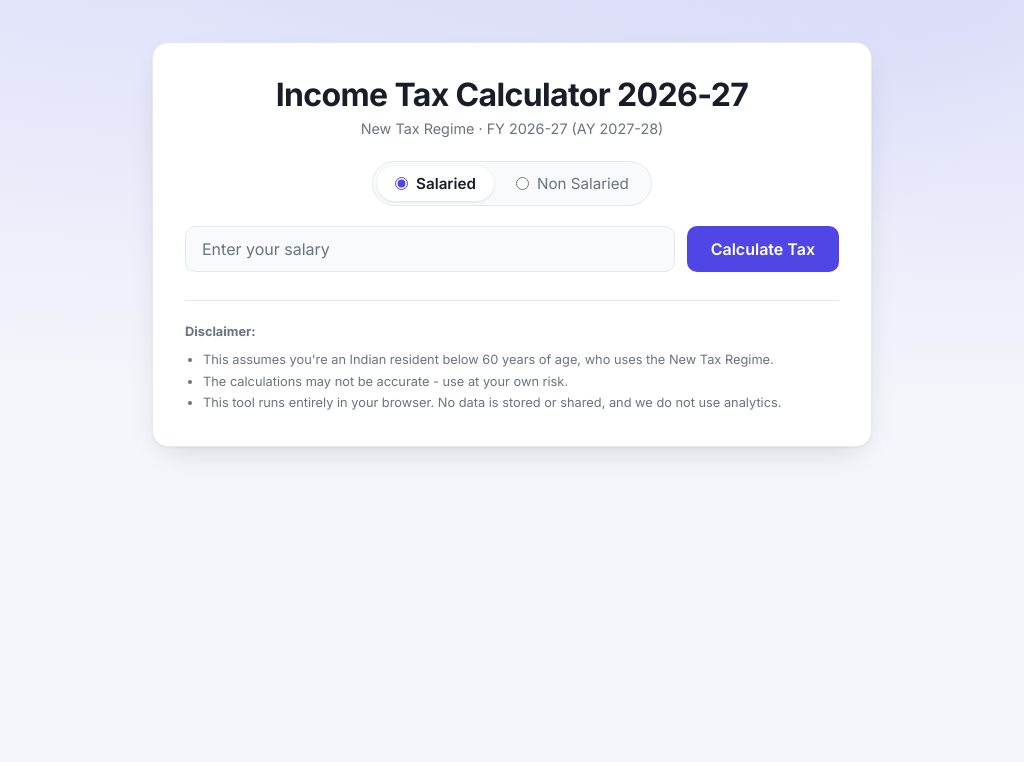
Scenario: TaxCalculator › shows marginal relief for income above threshold
Type "2500000" into the field with placeholder "Enter your salary".
click(430, 249); type("2500000")  # box [185, 226, 675, 272]
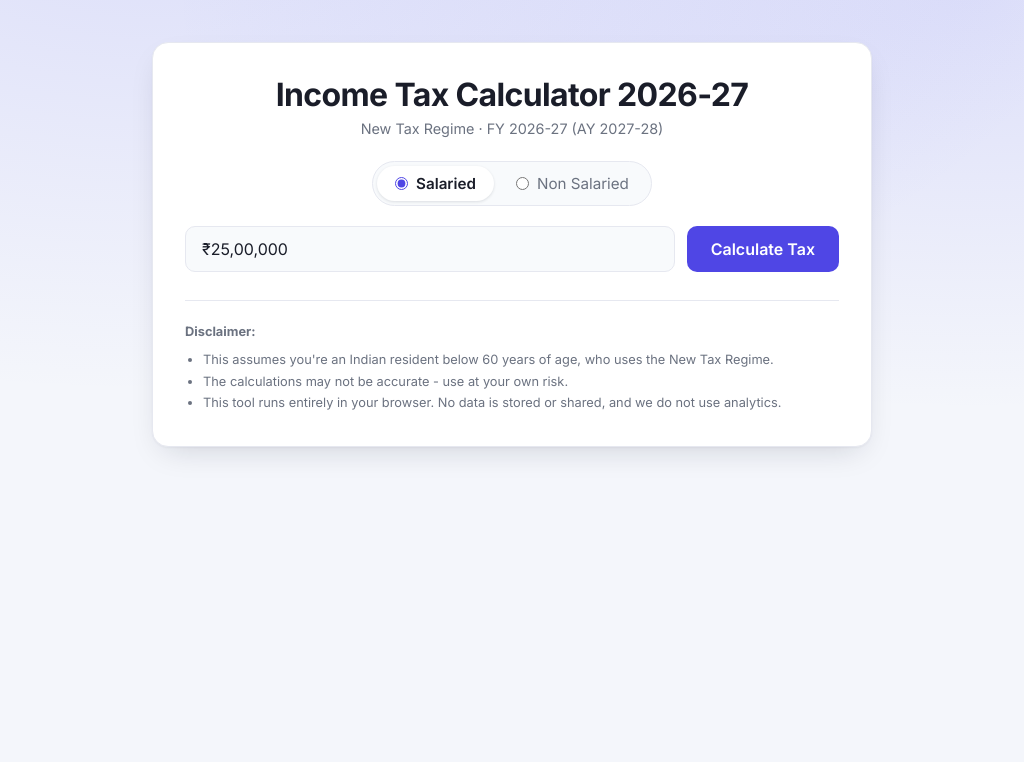
Click the button "Calculate Tax".
click(763, 249)  # box [687, 226, 839, 272]
(page scrolled)
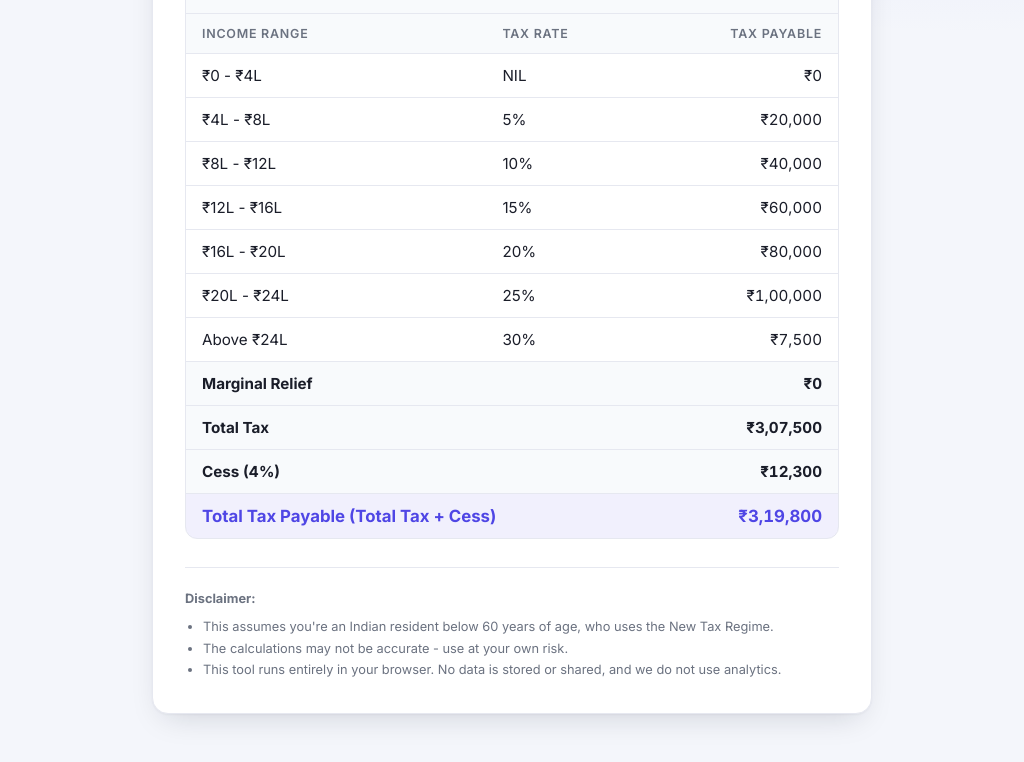
Check: the text "Marginal Relief" is shown, box [202, 374, 313, 393]
